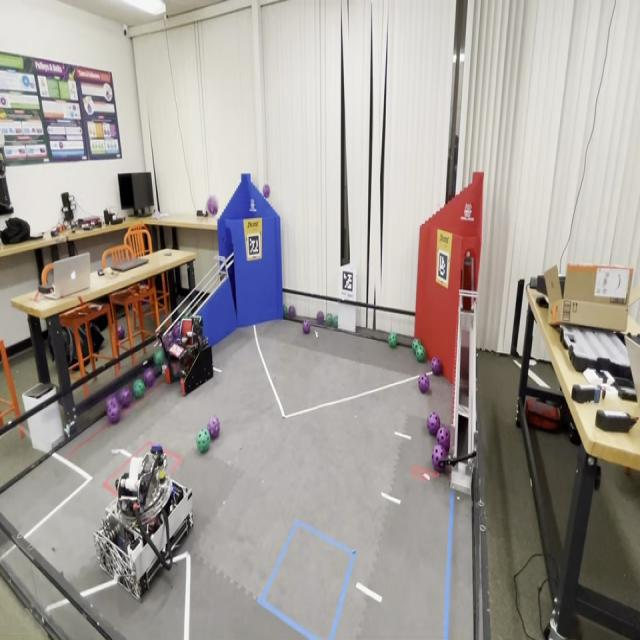artifact_green: (432, 445, 446, 472), (107, 400, 121, 424), (197, 428, 210, 452), (117, 387, 132, 407), (133, 379, 145, 399), (154, 348, 165, 366), (172, 322, 181, 342), (416, 344, 425, 362), (412, 338, 421, 354), (388, 332, 397, 348), (325, 313, 333, 327), (412, 338, 417, 354), (333, 315, 338, 328), (182, 312, 191, 319), (185, 312, 193, 318), (283, 305, 287, 317)
artifact_purple: (432, 445, 446, 472), (437, 426, 450, 452), (207, 415, 220, 439), (428, 412, 440, 436), (107, 402, 120, 424), (118, 387, 132, 407), (207, 195, 218, 215), (144, 368, 155, 388), (162, 331, 173, 350), (418, 374, 429, 393), (172, 321, 181, 343), (432, 357, 442, 375), (106, 395, 119, 407), (262, 184, 269, 199), (118, 325, 125, 340), (316, 311, 324, 324), (303, 320, 310, 334), (288, 305, 295, 318)
